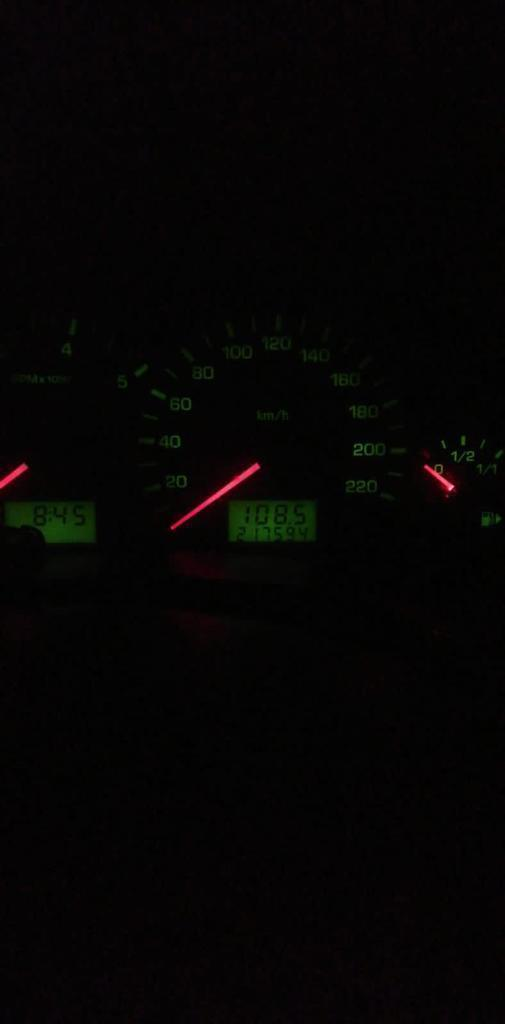0: (254, 504, 269, 524)
1: (244, 505, 250, 523), (254, 527, 259, 543)
2: (236, 526, 245, 542)
4: (298, 527, 307, 541)
5: (293, 504, 306, 524), (274, 526, 282, 541)
7: (262, 526, 271, 541)
8: (273, 504, 287, 525)
9: (285, 526, 295, 541)
odometer: (226, 498, 318, 545)
